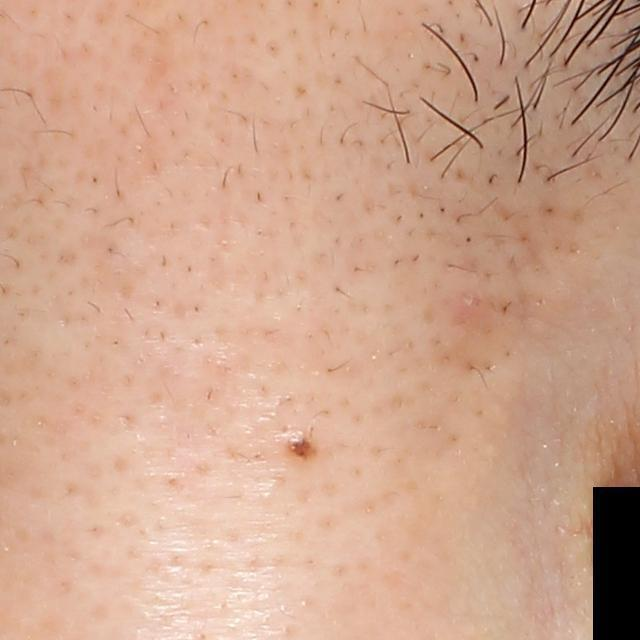nevus: (286, 430, 323, 463)
